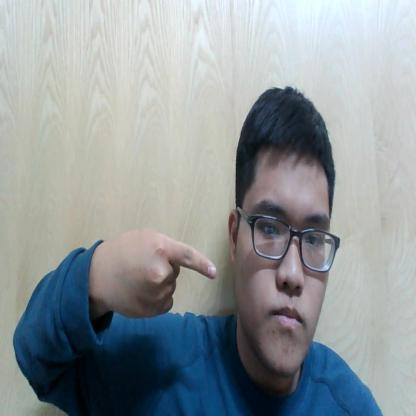left: (110, 215, 219, 336)
